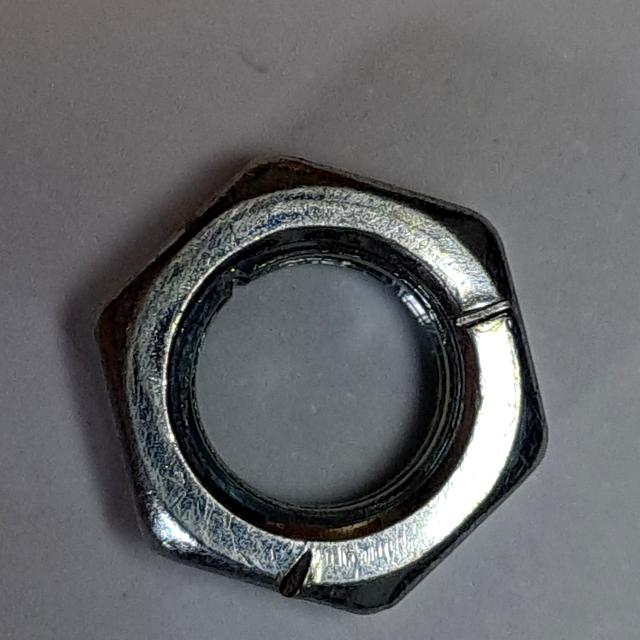Scratches: (74, 136, 572, 637)
